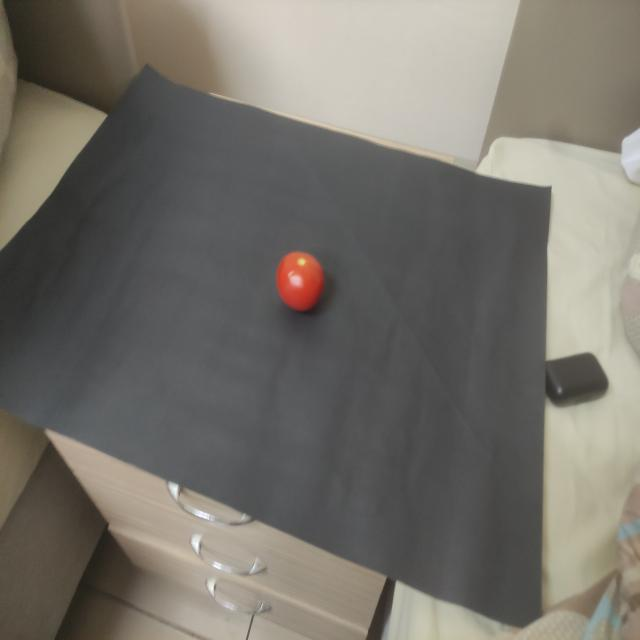kirmizi: (263, 234, 347, 326)
